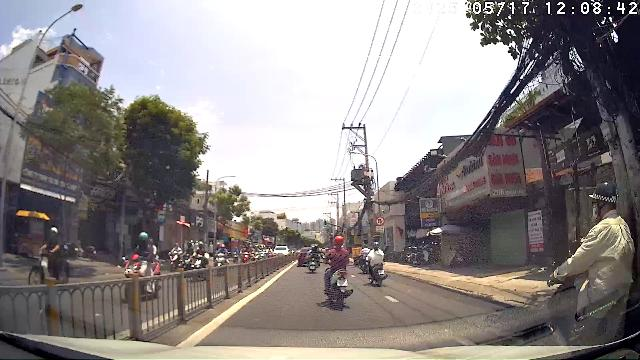124b-cam-oto-quay-dau-xe: (375, 217, 385, 226)
